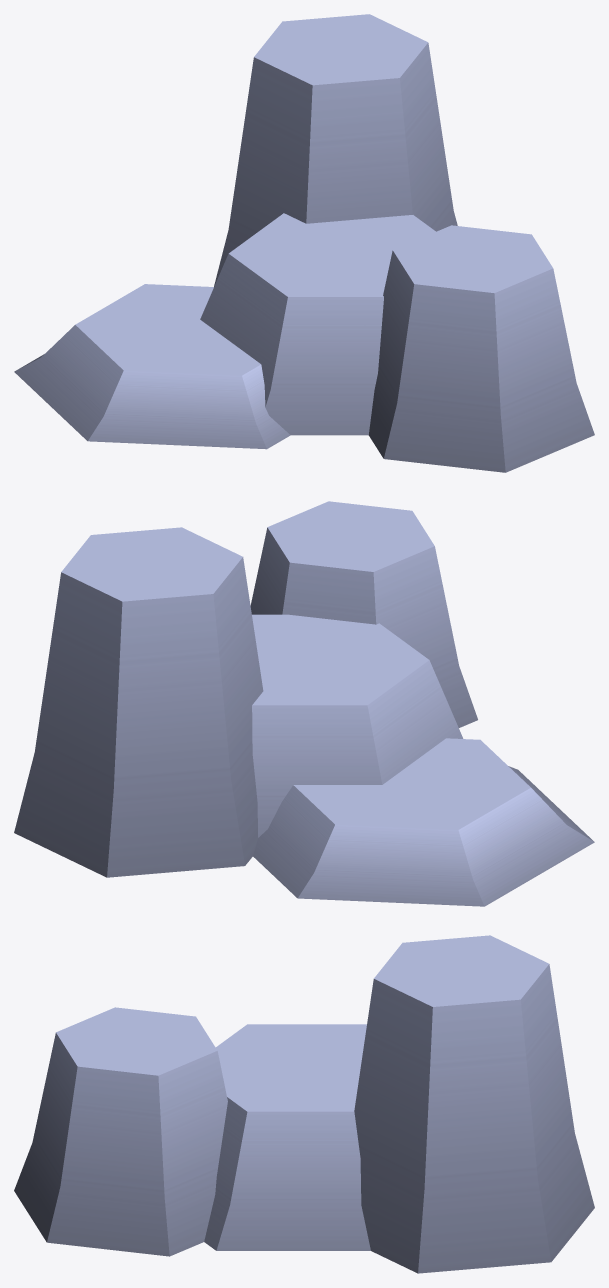
Rendered from rocks.glb.
The picture shows the model from 3 angles, top to bottom: view 1: azimuth 30°, elevation 25°; view 2: azimuth 150°, elevation 25°; view 3: azimuth 270°, elevation 25°; orthographic projection. The views are drawn at different scales.
Parts seen in each view (by area): view 1: Asset3DLoader.sceneRoot; view 2: Asset3DLoader.sceneRoot; view 3: Asset3DLoader.sceneRoot.
Part boxes in pixels (box(x1,y1,x2,y2)): Asset3DLoader.sceneRoot: box(14, 14, 594, 472); Asset3DLoader.sceneRoot: box(14, 501, 594, 906); Asset3DLoader.sceneRoot: box(14, 935, 594, 1273).
Bounding box in the file's own units: 0.864 × 0.4519 × 0.9598.
Materials: 1 (1 with a texture image).
